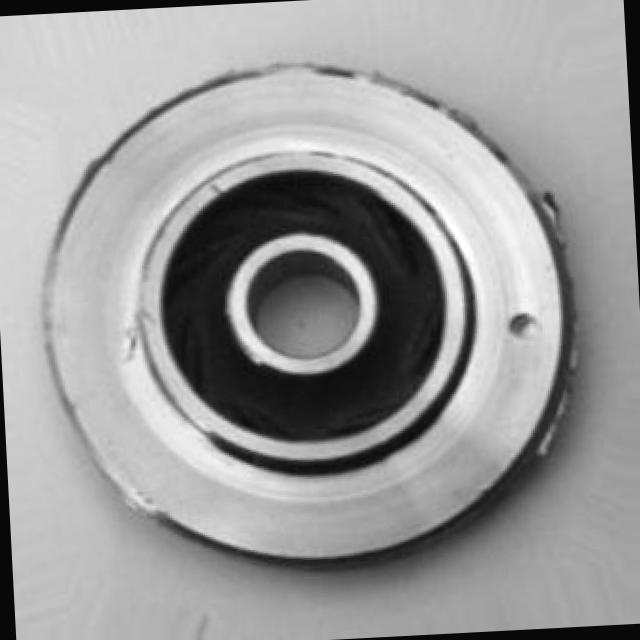Defect: (498, 294, 548, 357)
